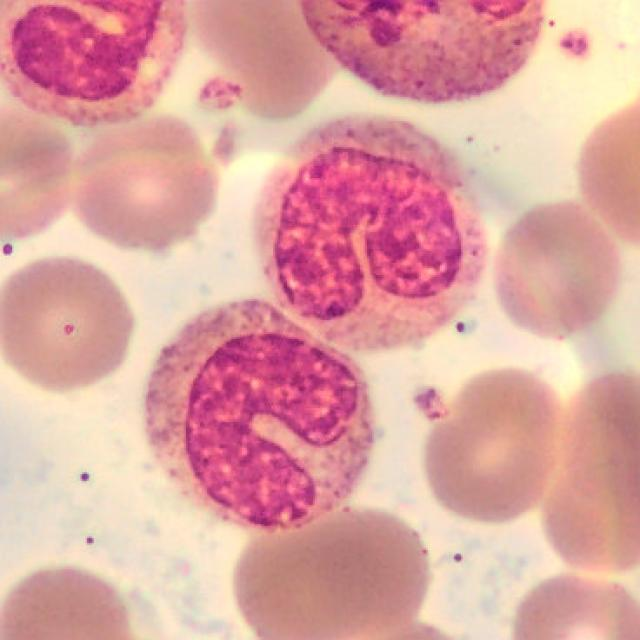Bastonete: (144, 301, 376, 533), (266, 119, 490, 355)
